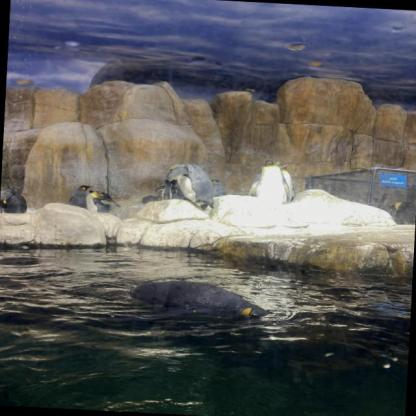penguin: (113, 276, 272, 329), (166, 162, 216, 210), (248, 158, 290, 204), (275, 163, 295, 202), (0, 188, 29, 214), (68, 184, 94, 209), (86, 189, 109, 213), (210, 178, 227, 196)
